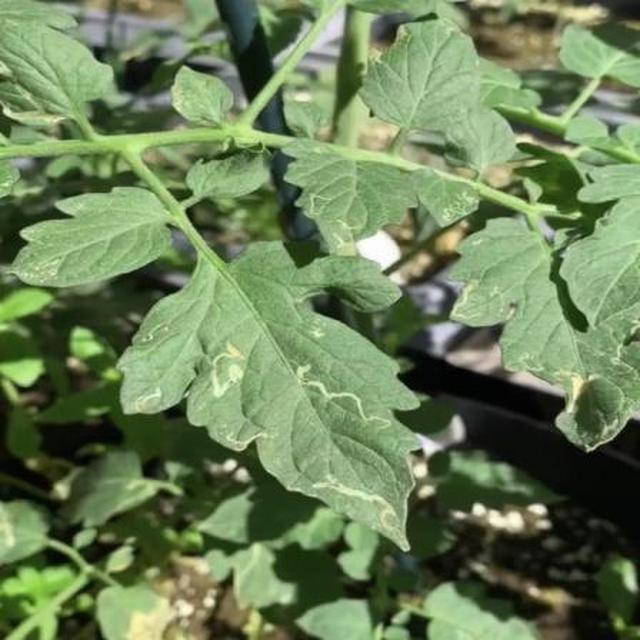Leaf Miner: (167, 345, 614, 640)
